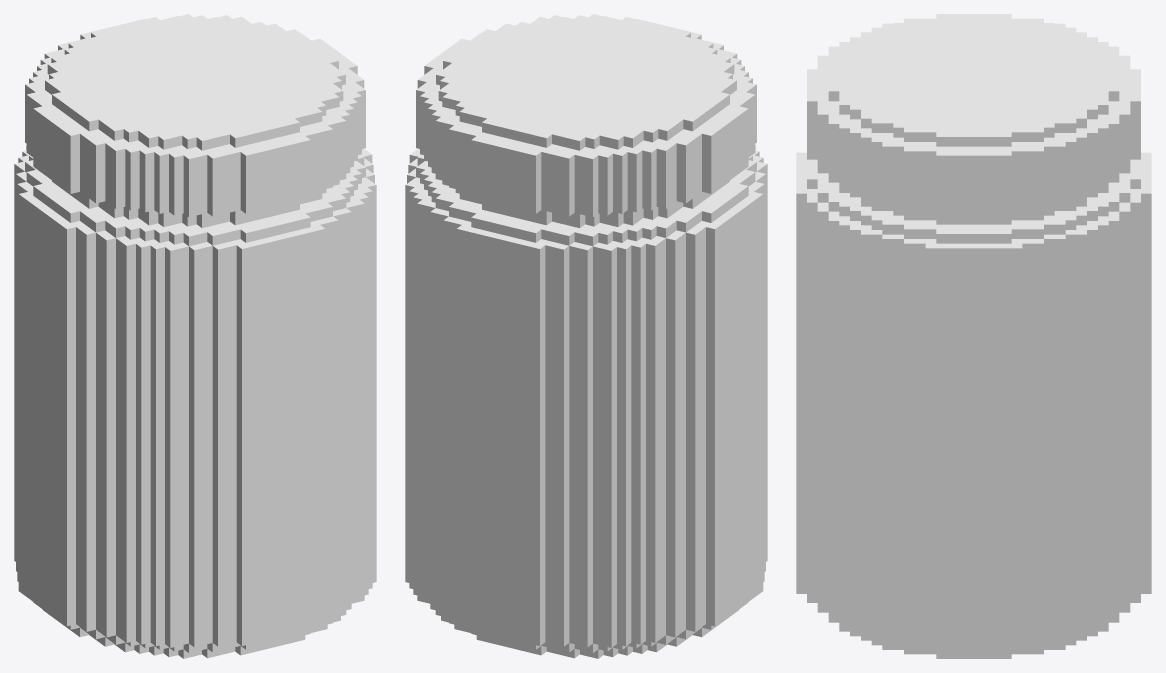
Rendered from Medicine Box1.fbx.
The picture shows the model from 3 angles, left to right: view 1: azimuth 30°, elevation 25°; view 2: azimuth 150°, elevation 25°; view 3: azimuth 270°, elevation 25°; orthographic projection.
Visible parts, largest first — view 1: Medicine Box1; view 2: Medicine Box1; view 3: Medicine Box1.
Part boxes in pixels (x1=…): Medicine Box1: x1=14, y1=14, x2=376, y2=658; Medicine Box1: x1=405, y1=14, x2=767, y2=658; Medicine Box1: x1=796, y1=14, x2=1151, y2=658.
Size of the model in its own units: 3.3 by 5.3 by 3.3.
